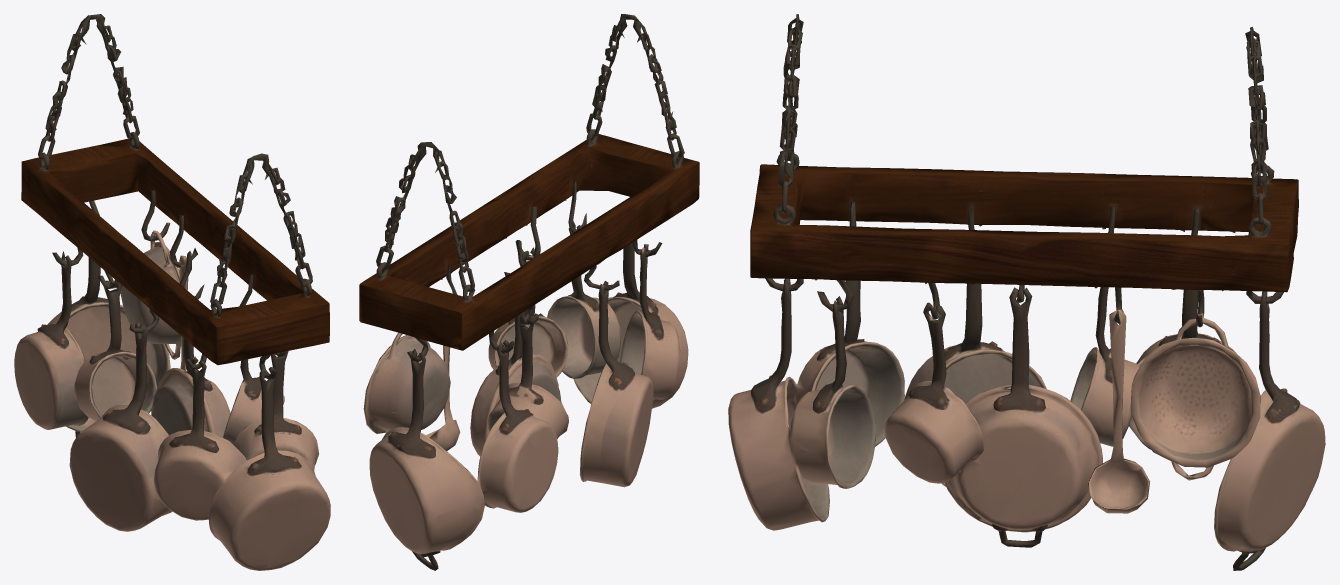
File: k_potrack.glb
3 views of the same model, side by side, from view 1: azimuth 30°, elevation 25°; view 2: azimuth 150°, elevation 25°; view 3: azimuth 270°, elevation 25° (orthographic). The views are drawn at different scales.
Parts seen in each view (by area): view 1: tripo_node_1390b7a7-9cee-45bb-9a14-8305a80805a0; view 2: tripo_node_1390b7a7-9cee-45bb-9a14-8305a80805a0; view 3: tripo_node_1390b7a7-9cee-45bb-9a14-8305a80805a0.
Part boxes in pixels (x1,y1,x2,y2): tripo_node_1390b7a7-9cee-45bb-9a14-8305a80805a0: (14,14,330,570); tripo_node_1390b7a7-9cee-45bb-9a14-8305a80805a0: (359,14,699,570); tripo_node_1390b7a7-9cee-45bb-9a14-8305a80805a0: (728,14,1325,570).
Bounding box in the file's own units: 0.4311 × 0.9928 × 1.
Materials: 1 (1 with a texture image).
